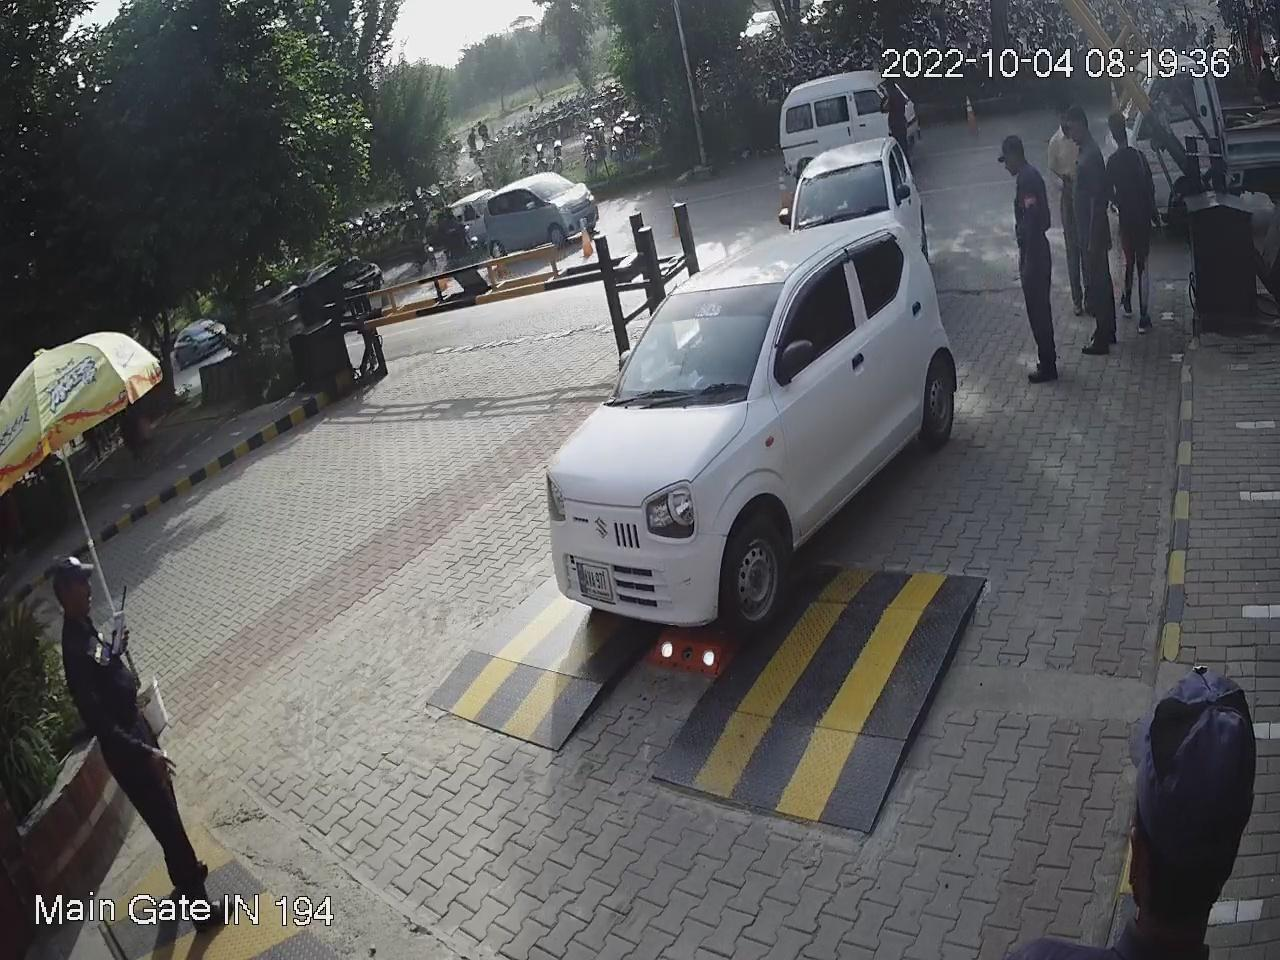windshield: (598, 270, 793, 400)
